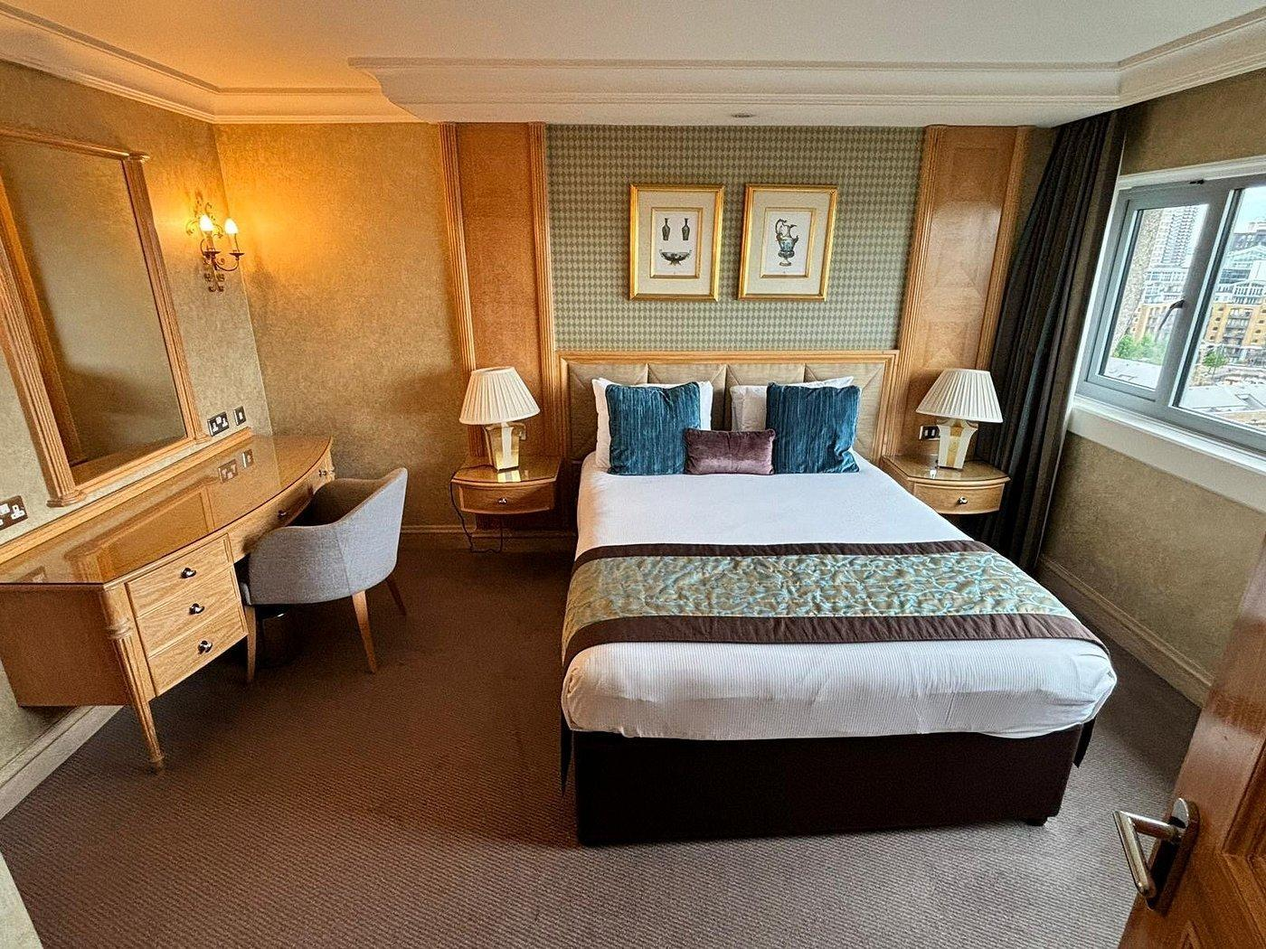chair: (261, 470, 424, 691)
clean_bed: (562, 354, 904, 737)
clean_floor: (148, 539, 559, 949)
organised_pillow: (595, 380, 856, 478)
organized table: (6, 425, 341, 597)
